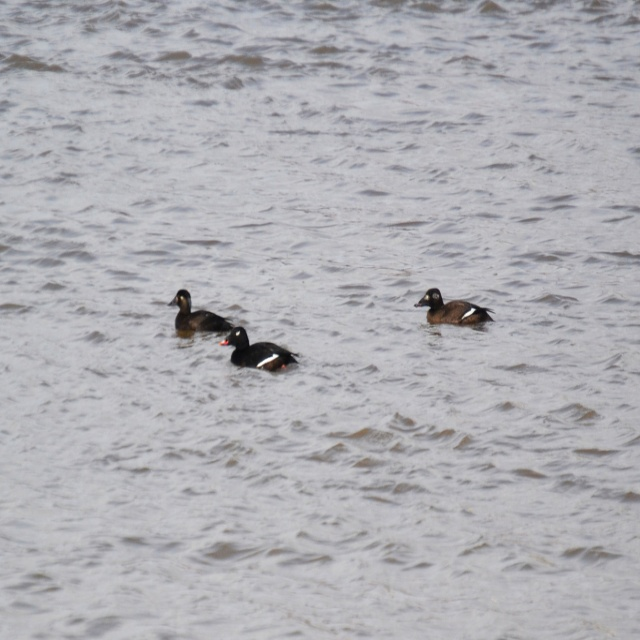Duck: (167, 288, 233, 346), (219, 327, 299, 372), (415, 287, 498, 325)
